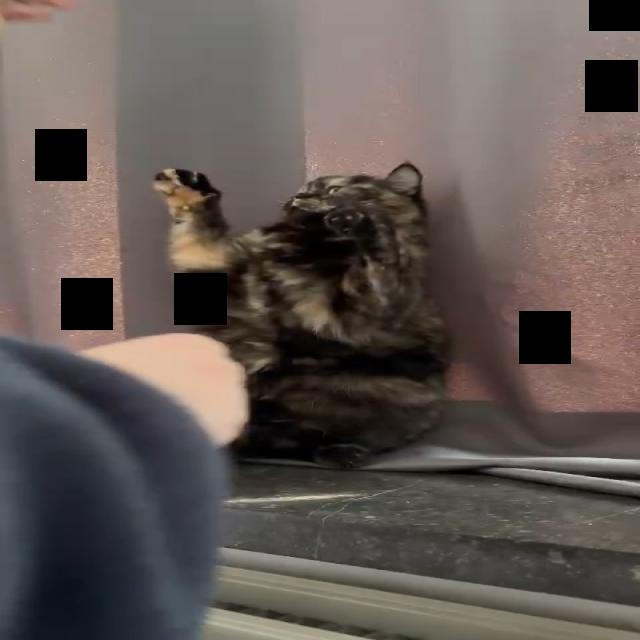authorized: (152, 160, 452, 469)
